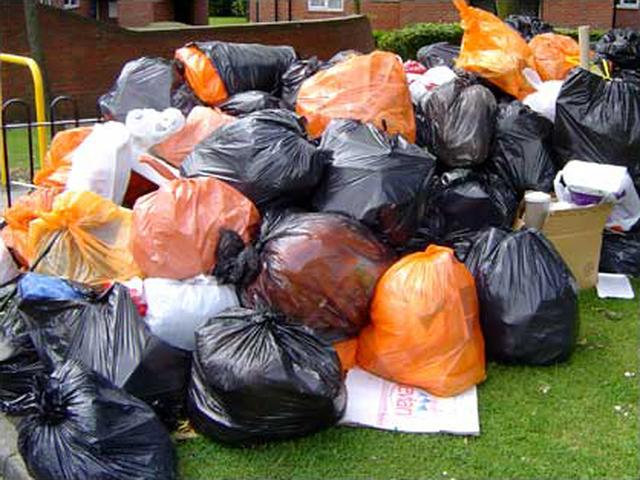garbage: (59, 141, 532, 369)
